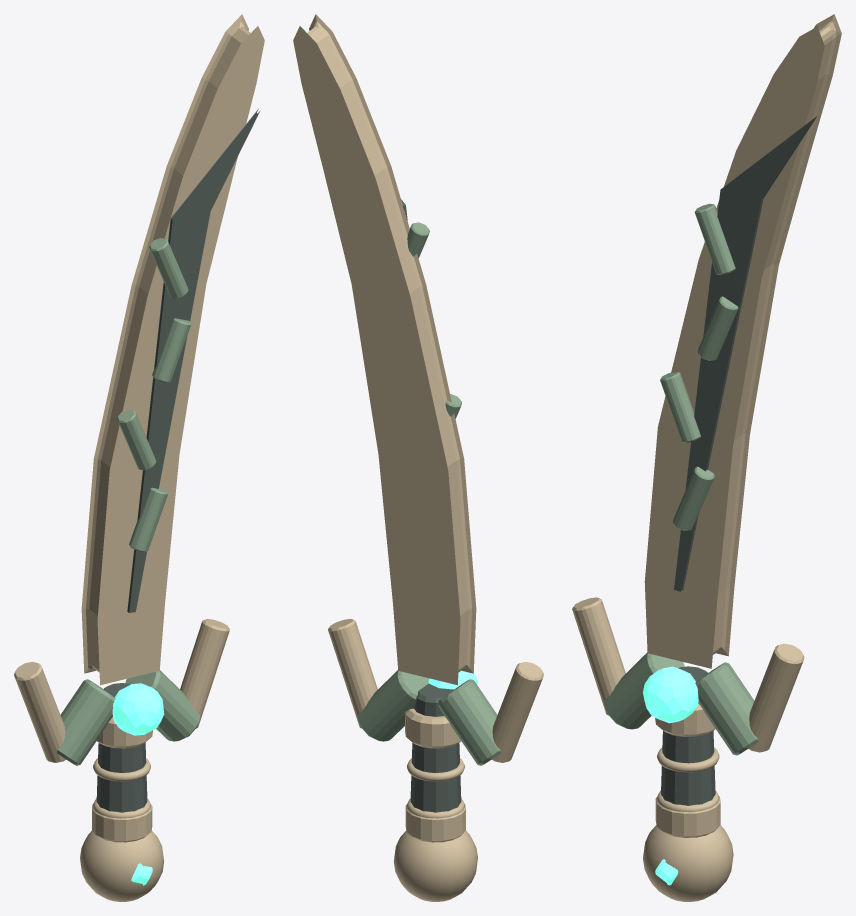
Rendered from assassin-sword-06-venom-serpent.glb.
The picture shows the model from 3 angles, left to right: view 1: azimuth 30°, elevation 25°; view 2: azimuth 150°, elevation 25°; view 3: azimuth 330°, elevation 25°; orthographic projection. The views are drawn at different scales.
Visible parts, largest first — view 1: assassin-sword-06-venom-serpent_ForgedBlade, assassin-sword-06-venom-serpent_ColoredFuller, assassin-sword-06-venom-serpent_Pommel, assassin-sword-06-venom-serpent_Guard_Left, assassin-sword-06-venom-serpent_LeatherGrip, assassin-sword-06-venom-serpent_Guard_LeftTip, assassin-sword-06-venom-serpent_Guard_RightTip, assassin-sword-06-venom-serpent_Guard_Right, assassin-sword-06-venom-serpent_GuardGem, assassin-sword-06-venom-serpent_LowerFerrule, assassin-sword-06-venom-serpent_VineRidge_1, assassin-sword-06-venom-serpent_VineRidge_3 (+4 smaller); view 2: assassin-sword-06-venom-serpent_ForgedBlade, assassin-sword-06-venom-serpent_Pommel, assassin-sword-06-venom-serpent_LeatherGrip, assassin-sword-06-venom-serpent_Guard_Left, assassin-sword-06-venom-serpent_Guard_Right, assassin-sword-06-venom-serpent_Guard_LeftTip, assassin-sword-06-venom-serpent_Guard_RightTip, assassin-sword-06-venom-serpent_UpperFerrule, assassin-sword-06-venom-serpent_LowerFerrule, assassin-sword-06-venom-serpent_GripBinding_2, assassin-sword-06-venom-serpent_VineRidge_4; view 3: assassin-sword-06-venom-serpent_ForgedBlade, assassin-sword-06-venom-serpent_ColoredFuller, assassin-sword-06-venom-serpent_Pommel, assassin-sword-06-venom-serpent_Guard_Right, assassin-sword-06-venom-serpent_LeatherGrip, assassin-sword-06-venom-serpent_Guard_RightTip, assassin-sword-06-venom-serpent_Guard_LeftTip, assassin-sword-06-venom-serpent_Guard_Left, assassin-sword-06-venom-serpent_GuardGem, assassin-sword-06-venom-serpent_LowerFerrule, assassin-sword-06-venom-serpent_VineRidge_2, assassin-sword-06-venom-serpent_VineRidge_4 (+4 smaller).
Boxes of the visible parts, box(x1,y1,x2,y2) form: assassin-sword-06-venom-serpent_ForgedBlade: box(81, 14, 264, 685); assassin-sword-06-venom-serpent_ColoredFuller: box(127, 108, 260, 612); assassin-sword-06-venom-serpent_Pommel: box(80, 830, 164, 901); assassin-sword-06-venom-serpent_Guard_Left: box(57, 679, 115, 765); assassin-sword-06-venom-serpent_LeatherGrip: box(96, 683, 147, 812); assassin-sword-06-venom-serpent_Guard_LeftTip: box(14, 662, 65, 762); assassin-sword-06-venom-serpent_Guard_RightTip: box(180, 618, 229, 728); assassin-sword-06-venom-serpent_Guard_Right: box(125, 670, 200, 741); assassin-sword-06-venom-serpent_GuardGem: box(112, 683, 164, 735); assassin-sword-06-venom-serpent_LowerFerrule: box(92, 803, 152, 842); assassin-sword-06-venom-serpent_VineRidge_1: box(129, 487, 167, 552); assassin-sword-06-venom-serpent_VineRidge_3: box(152, 318, 191, 382); assassin-sword-06-venom-serpent_ForgedBlade: box(293, 14, 476, 685); assassin-sword-06-venom-serpent_Pommel: box(393, 830, 477, 901); assassin-sword-06-venom-serpent_LeatherGrip: box(410, 683, 461, 812); assassin-sword-06-venom-serpent_Guard_Left: box(438, 679, 500, 765); assassin-sword-06-venom-serpent_Guard_Right: box(357, 670, 428, 741); assassin-sword-06-venom-serpent_Guard_LeftTip: box(492, 662, 543, 762); assassin-sword-06-venom-serpent_Guard_RightTip: box(328, 618, 377, 728); assassin-sword-06-venom-serpent_UpperFerrule: box(405, 708, 460, 748); assassin-sword-06-venom-serpent_LowerFerrule: box(405, 803, 465, 842); assassin-sword-06-venom-serpent_GripBinding_2: box(407, 758, 464, 781); assassin-sword-06-venom-serpent_VineRidge_4: box(407, 222, 429, 258); assassin-sword-06-venom-serpent_ForgedBlade: box(644, 14, 841, 668); assassin-sword-06-venom-serpent_ColoredFuller: box(674, 116, 817, 591); assassin-sword-06-venom-serpent_Pommel: box(643, 825, 733, 901); assassin-sword-06-venom-serpent_Guard_Right: box(695, 662, 758, 755); assassin-sword-06-venom-serpent_LeatherGrip: box(661, 666, 715, 805); assassin-sword-06-venom-serpent_Guard_RightTip: box(748, 643, 804, 752); assassin-sword-06-venom-serpent_Guard_LeftTip: box(572, 597, 625, 715); assassin-sword-06-venom-serpent_Guard_Left: box(604, 652, 684, 729); assassin-sword-06-venom-serpent_GuardGem: box(643, 666, 698, 723); assassin-sword-06-venom-serpent_LowerFerrule: box(655, 796, 720, 837); assassin-sword-06-venom-serpent_VineRidge_2: box(660, 372, 700, 442); assassin-sword-06-venom-serpent_VineRidge_4: box(694, 203, 735, 274).
Bounding box in the file's own units: 0.4199 × 1.41 × 0.15.
